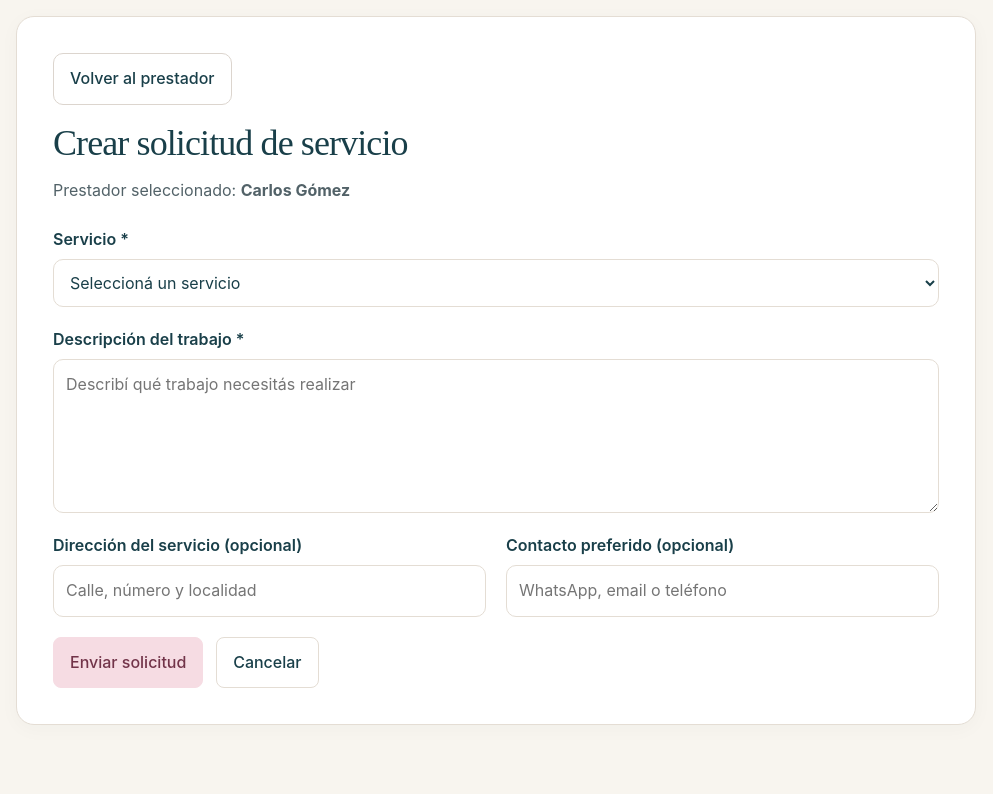
Scenario: F-11 - Formulario de solicitud › envía los datos correctos y confirma el resultado
This screenshot has width=993, height=794.
Select "Plomero" in the dropdown labelled "Servicio *": (496, 283) [53,259,939,307]
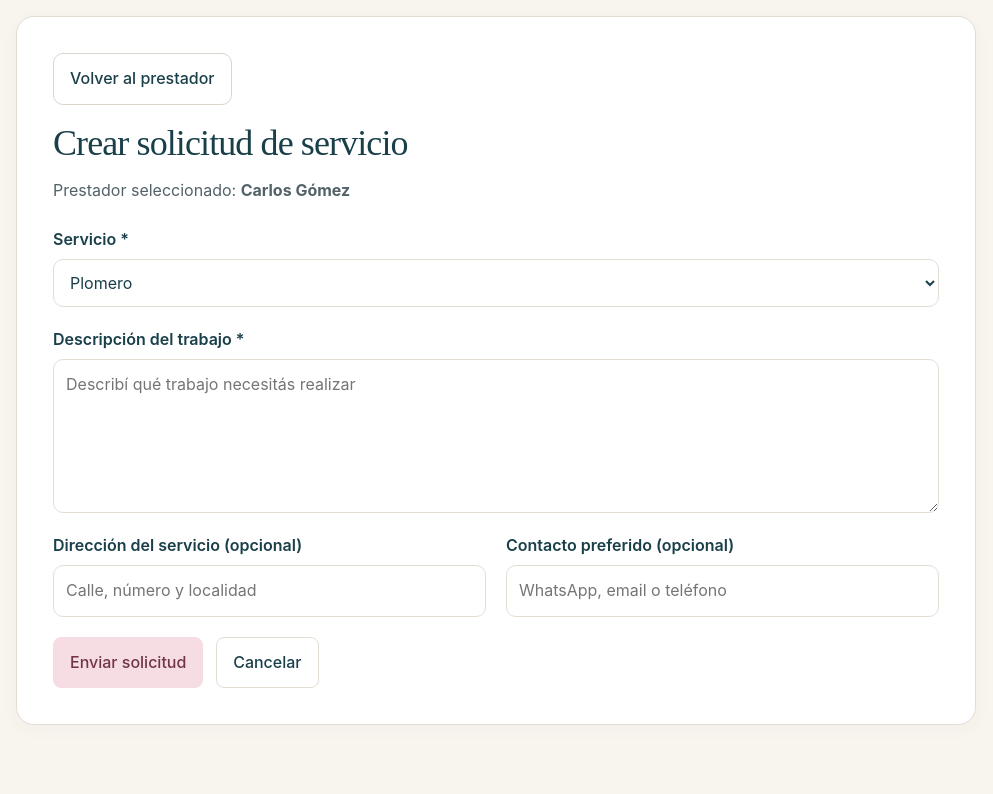
In the text box labelled "Descripción del trabajo *": (496, 436) [53,359,939,513], type "Necesito reparar una pérdida de agua en la cocina."
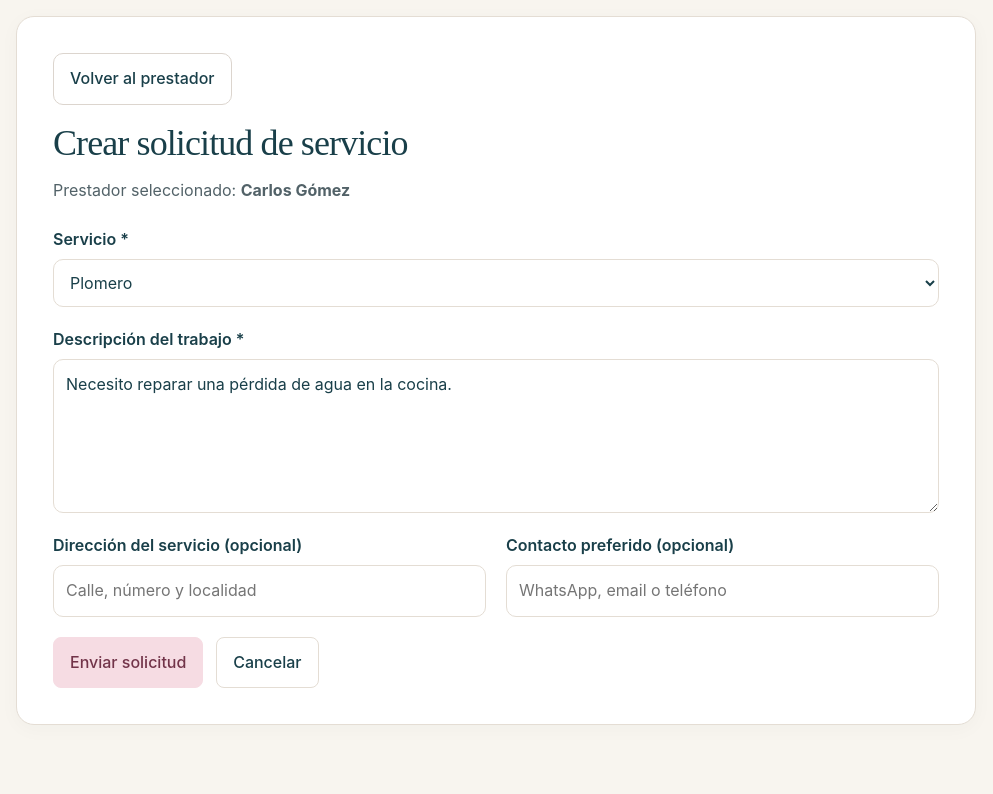
In the field labelled "Dirección del servicio (opcional)": (270, 591) [53,565,486,617], type "Av. Santa Fe 1234"
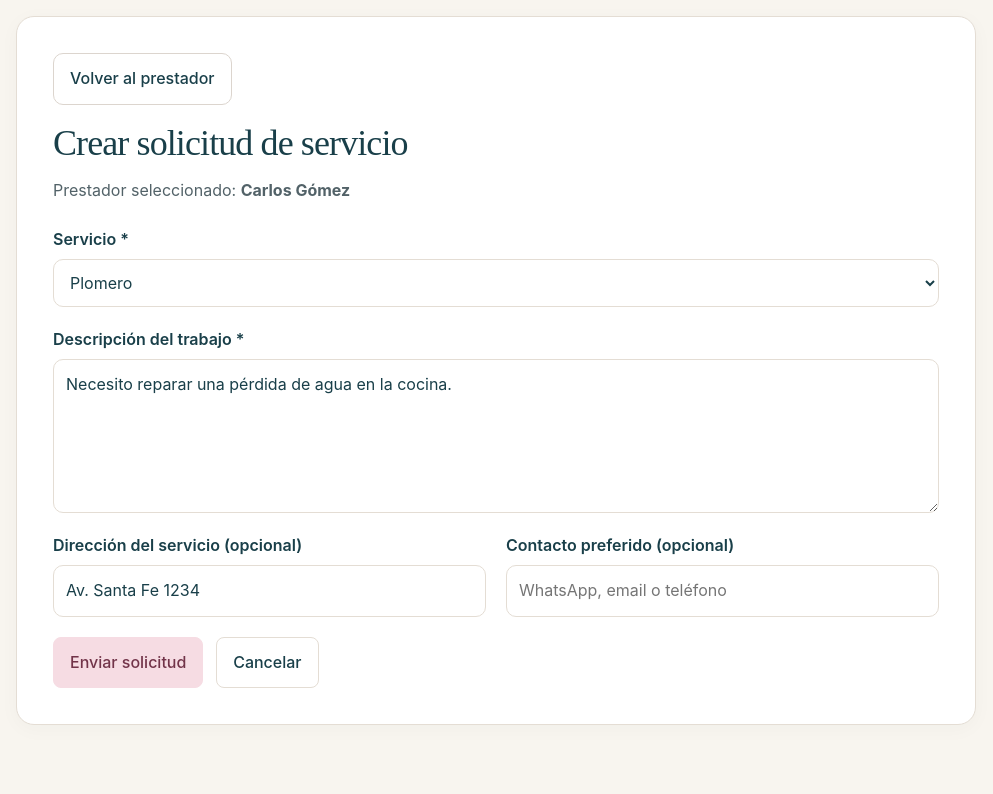
Click the button "Enviar solicitud": (128, 662) [53,637,203,688]
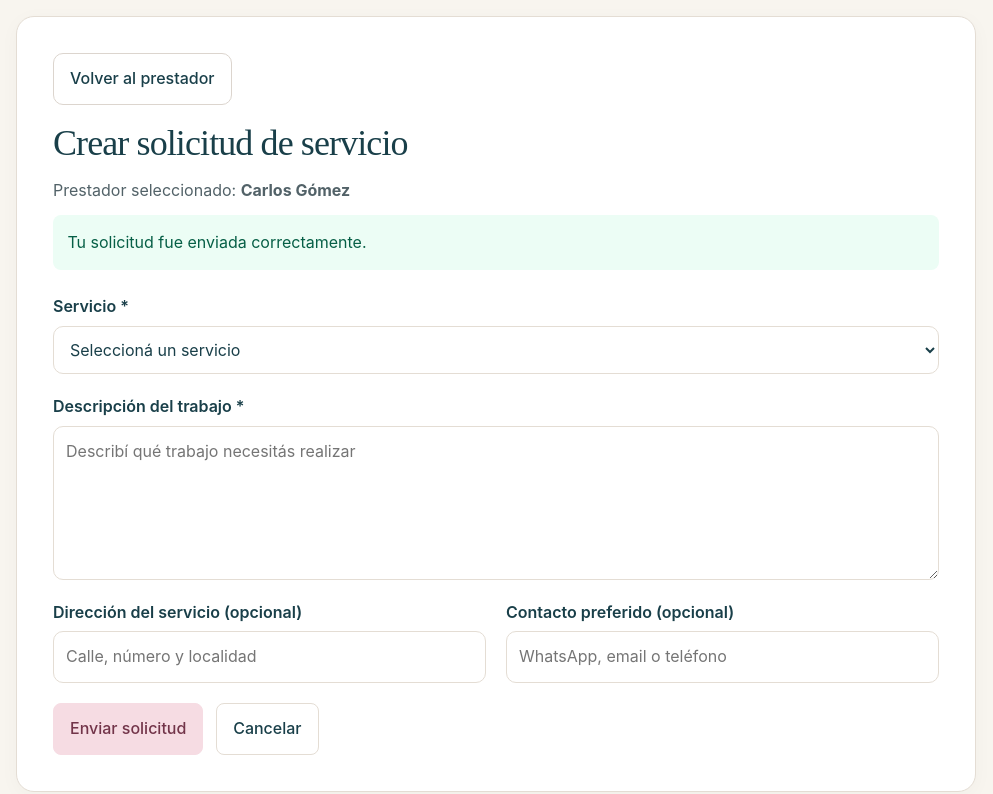
Expected: the text "Tu solicitud fue enviada correctamente." is shown, [53,215,939,270]
